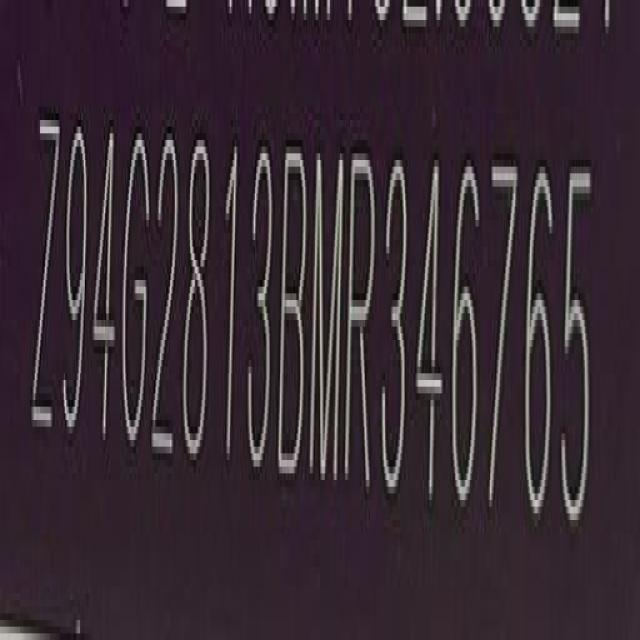1: (222, 147, 242, 477)
2: (153, 128, 180, 478)
3: (247, 142, 274, 490), (383, 163, 407, 494)
4: (416, 158, 443, 510), (93, 118, 119, 457)
5: (561, 157, 594, 534)
6: (524, 144, 558, 531), (451, 163, 480, 517)
7: (487, 154, 517, 520)
8: (181, 142, 211, 477)
9: (62, 128, 89, 438)
B: (278, 152, 307, 504)
G: (120, 134, 152, 467)
M: (310, 150, 344, 490)
R: (345, 150, 381, 494)
Z: (30, 102, 60, 430)
